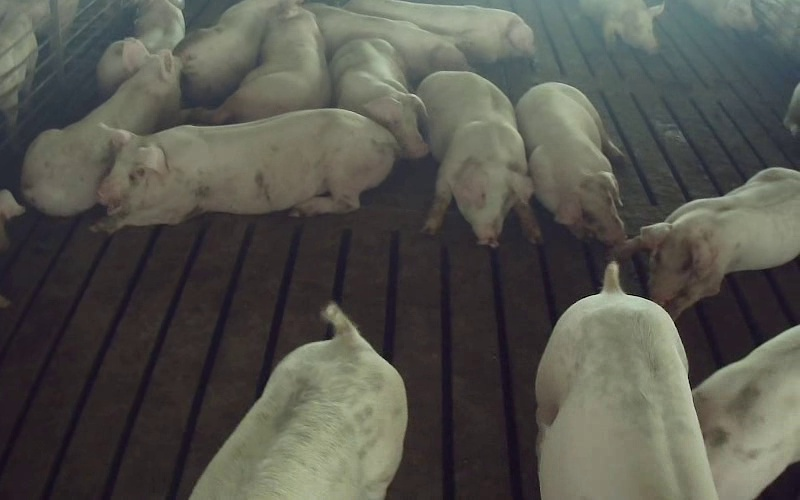pig: (536, 262, 716, 499), (190, 303, 406, 499), (95, 109, 397, 232), (21, 39, 181, 215), (616, 168, 799, 318), (417, 71, 540, 245), (693, 326, 799, 499), (516, 82, 625, 244), (192, 3, 331, 123), (304, 3, 468, 80), (344, 0, 534, 62), (330, 38, 428, 158)
